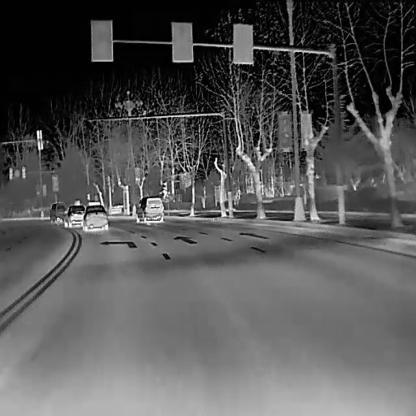car: (135, 195, 163, 224), (81, 201, 108, 230), (63, 203, 86, 226), (49, 200, 64, 223)
